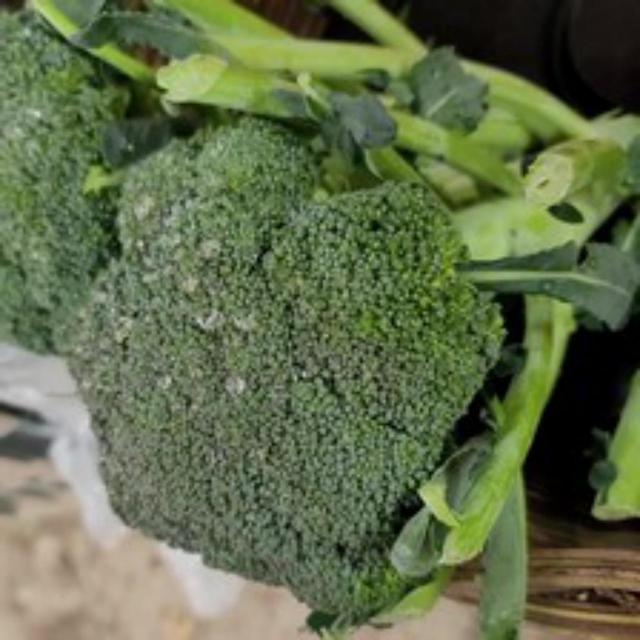broccoli: (71, 117, 520, 637)
